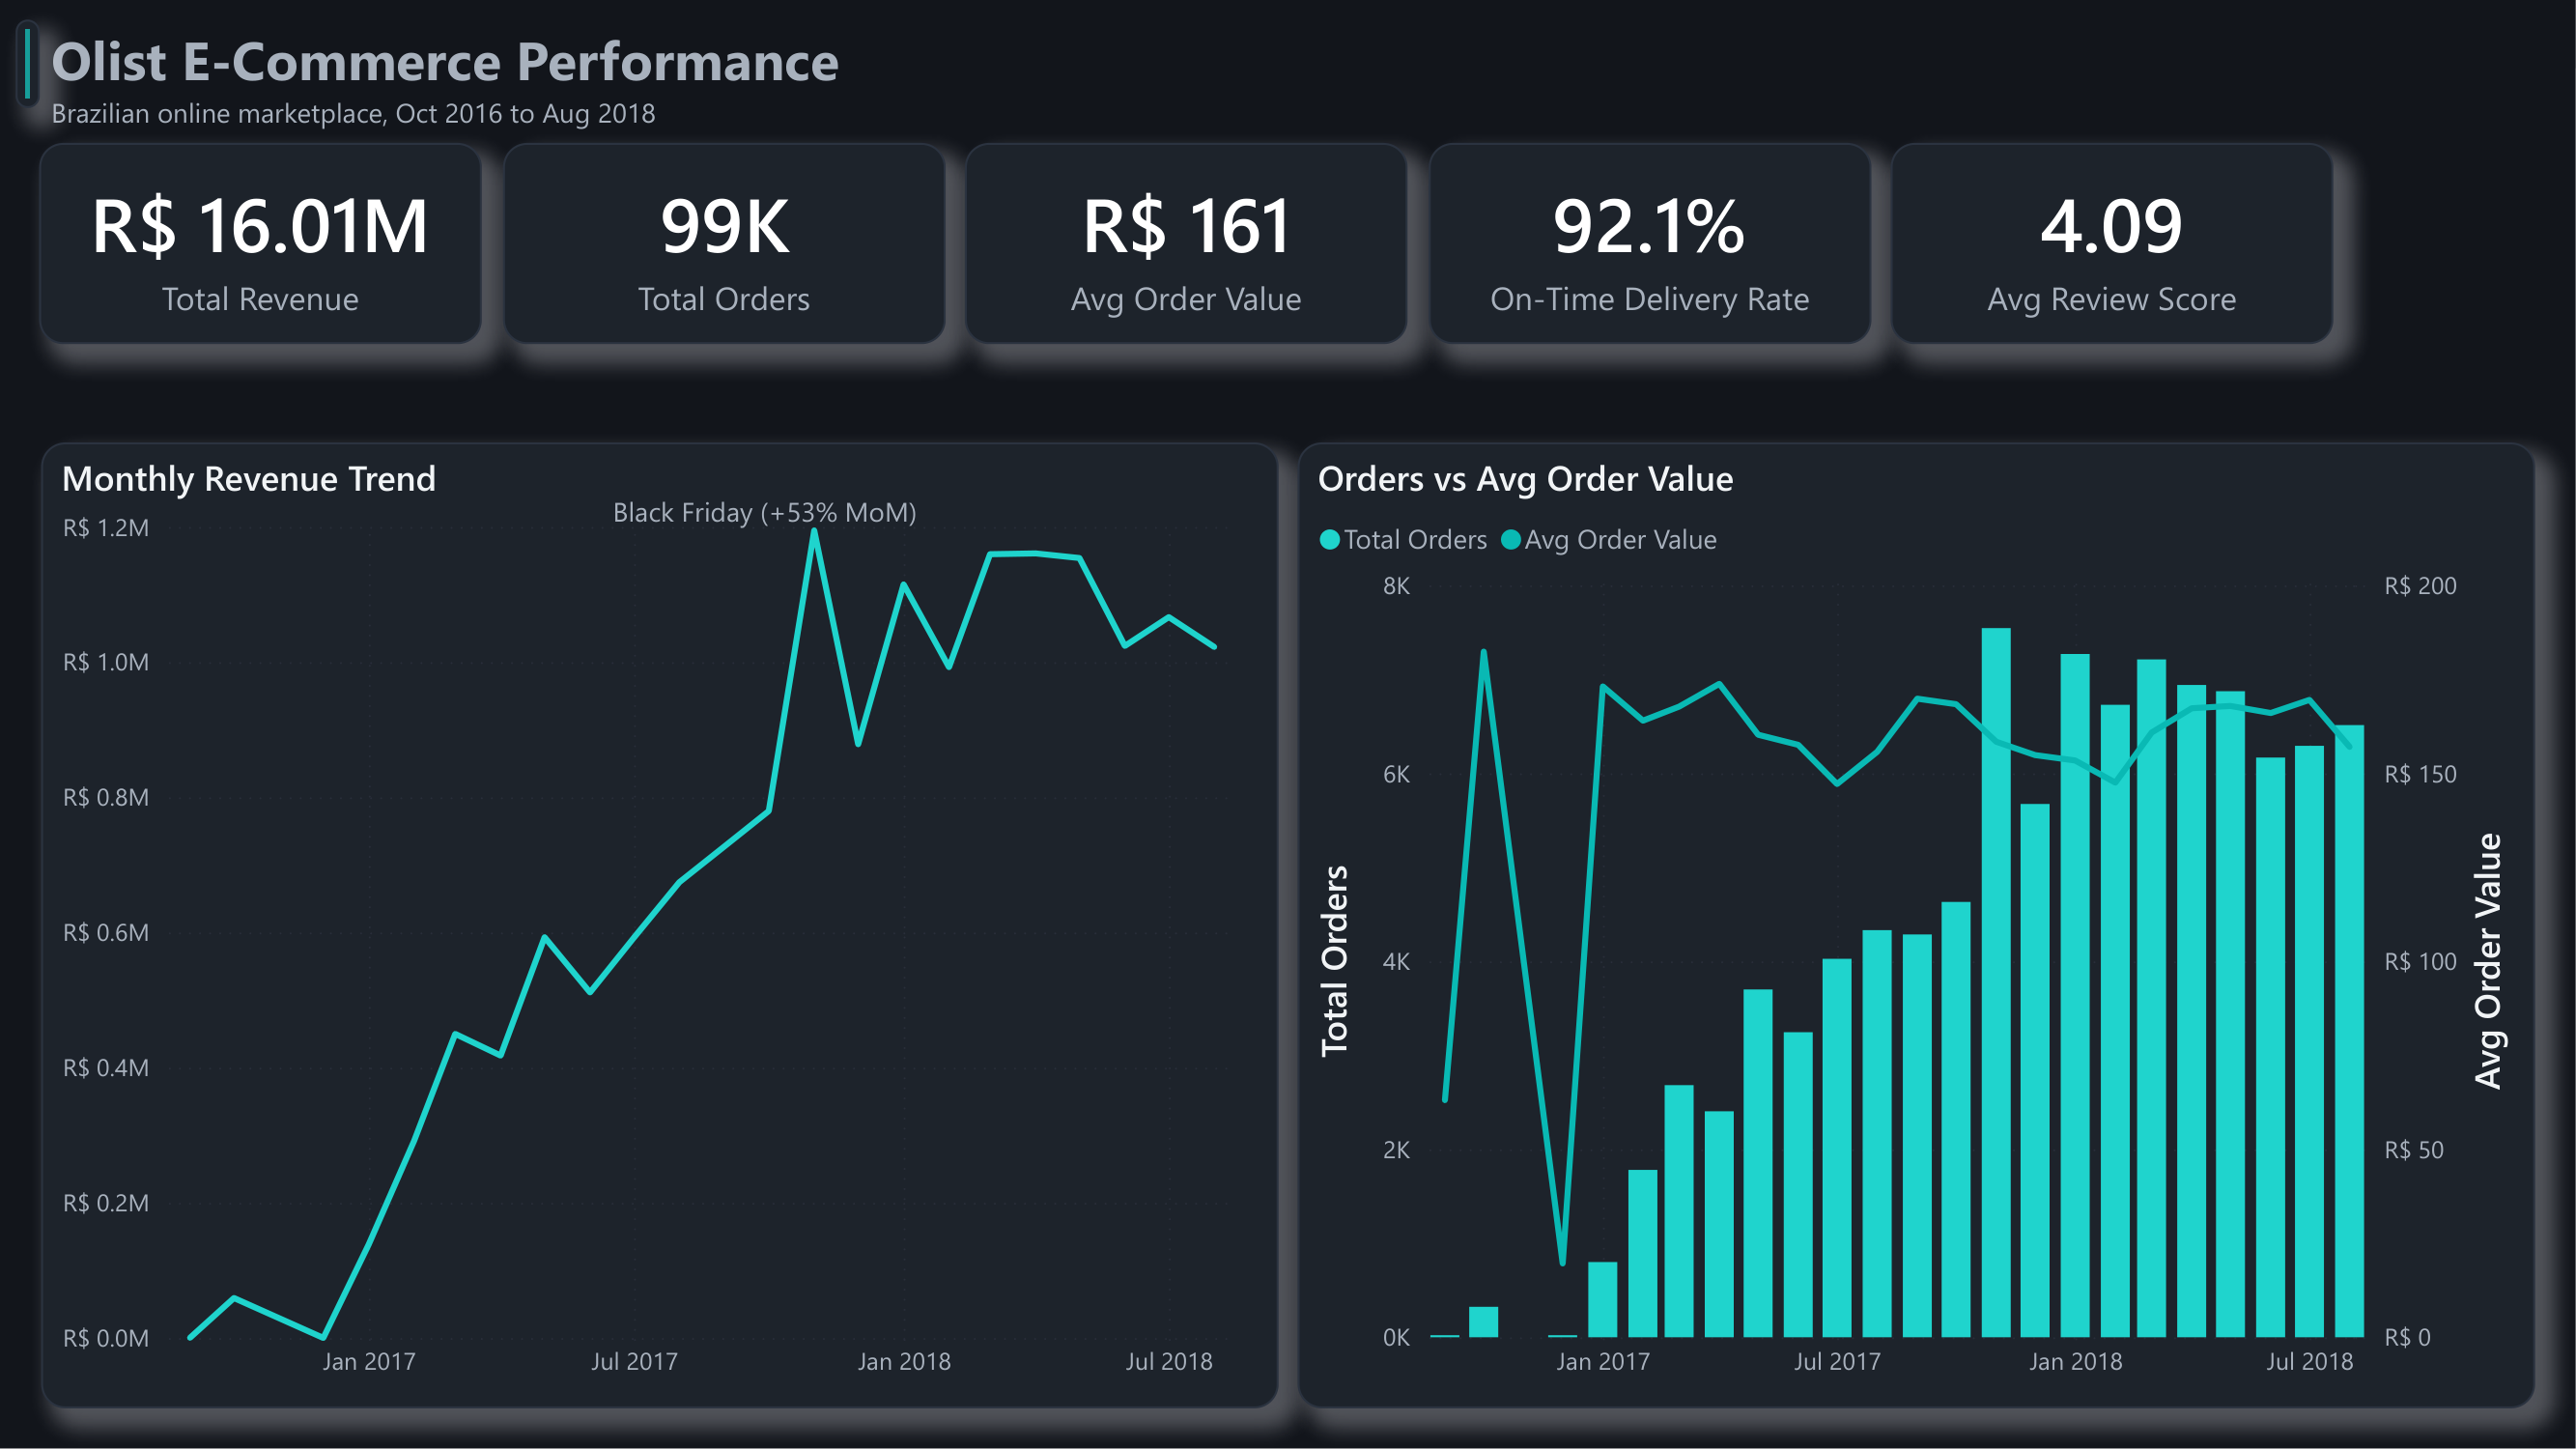

Layout of this report page (visuals, bound fields, positions):
{"tool":"powerbi","page":{"name":"Executive Overview","canvas":[1280,720],"ordinal":0},"visuals":[{"type":"card","fields":{"Values":["olist_master_powerbi.Total Revenue"]},"box":[19.6,71,220,100],"z":0},{"type":"card","fields":{"Values":["olist_master_powerbi.Total Orders"]},"box":[249.6,71,220,100],"z":1000},{"type":"card","fields":{"Values":["olist_master_powerbi.Avg Order Value"]},"box":[479.6,71,220,100],"z":2000},{"type":"card","fields":{"Values":["olist_master_powerbi.On-Time Delivery Rate"]},"box":[709.6,71,220,100],"z":3000},{"type":"card","fields":{"Values":["olist_master_powerbi.Avg Review Score"]},"box":[939.6,71,220,100],"z":4000},{"type":"lineChart","title":"Monthly Revenue Trend","fields":{"Y":["olist_master_powerbi.Total Revenue"],"Category":["olist_master_powerbi.order_yearmonth"]},"box":[20,220,615,480],"z":5000},{"type":"textbox","box":[300,240,220,44],"z":6000},{"type":"lineClusteredColumnComboChart","title":"Orders vs Avg Order Value","fields":{"Category":["olist_master_powerbi.order_yearmonth"],"Y":["olist_master_powerbi.Total Orders"],"Y2":["olist_master_powerbi.Avg Order Value"]},"box":[645,220,615,480],"z":7000},{"type":"textbox","box":[20,6,780,66],"z":8000},{"type":"shape","box":[8,10,12,44],"z":9000}]}

Visuals, with their boxes in screenshot pixels (x1, y1, x2, y2), scaled from the page's 1280x720 canvas onto the 2576x1449 screenshot:
card - olist_master_powerbi.Total Revenue: select_region(40, 143, 482, 344)
card - olist_master_powerbi.Total Orders: select_region(502, 143, 945, 344)
card - olist_master_powerbi.Avg Order Value: select_region(965, 143, 1408, 344)
card - olist_master_powerbi.On-Time Delivery Rate: select_region(1429, 143, 1871, 344)
card - olist_master_powerbi.Avg Review Score: select_region(1891, 143, 2334, 344)
"Monthly Revenue Trend" lineChart: select_region(41, 442, 1278, 1408)
textbox: select_region(604, 483, 1046, 572)
"Orders vs Avg Order Value" lineClusteredColumnComboChart: select_region(1298, 442, 2535, 1408)
textbox: select_region(41, 12, 1610, 145)
shape: select_region(16, 20, 41, 109)
